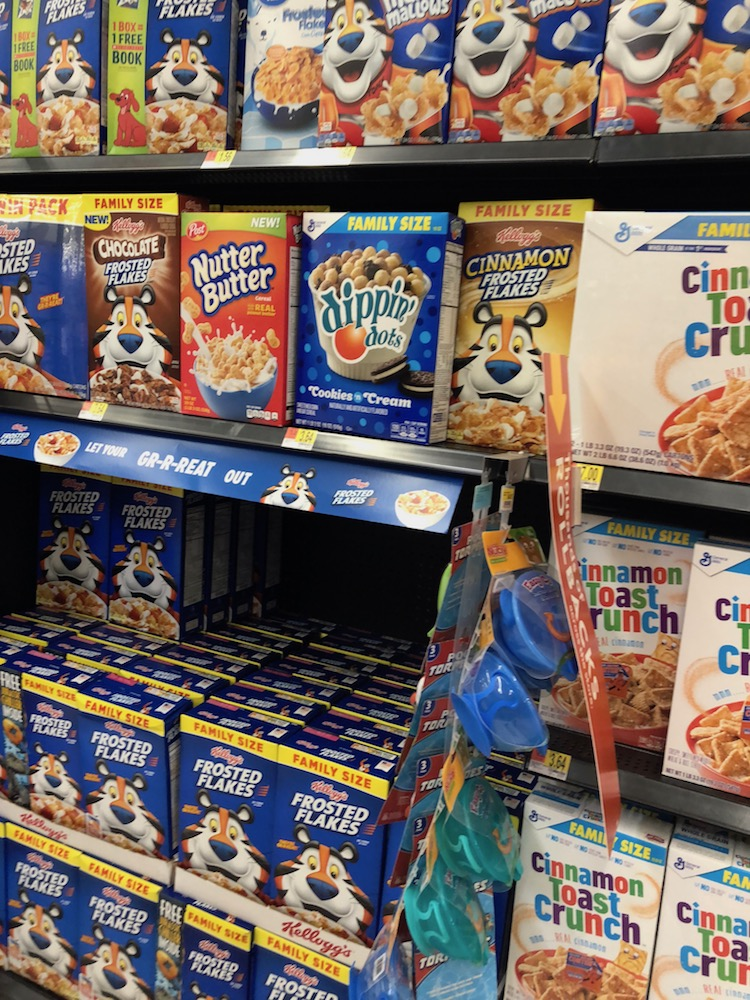Dippin Dots Cookies & Cream -568929378: (308, 229, 452, 454)
Nutter Butter-565717511: (170, 227, 289, 419)
